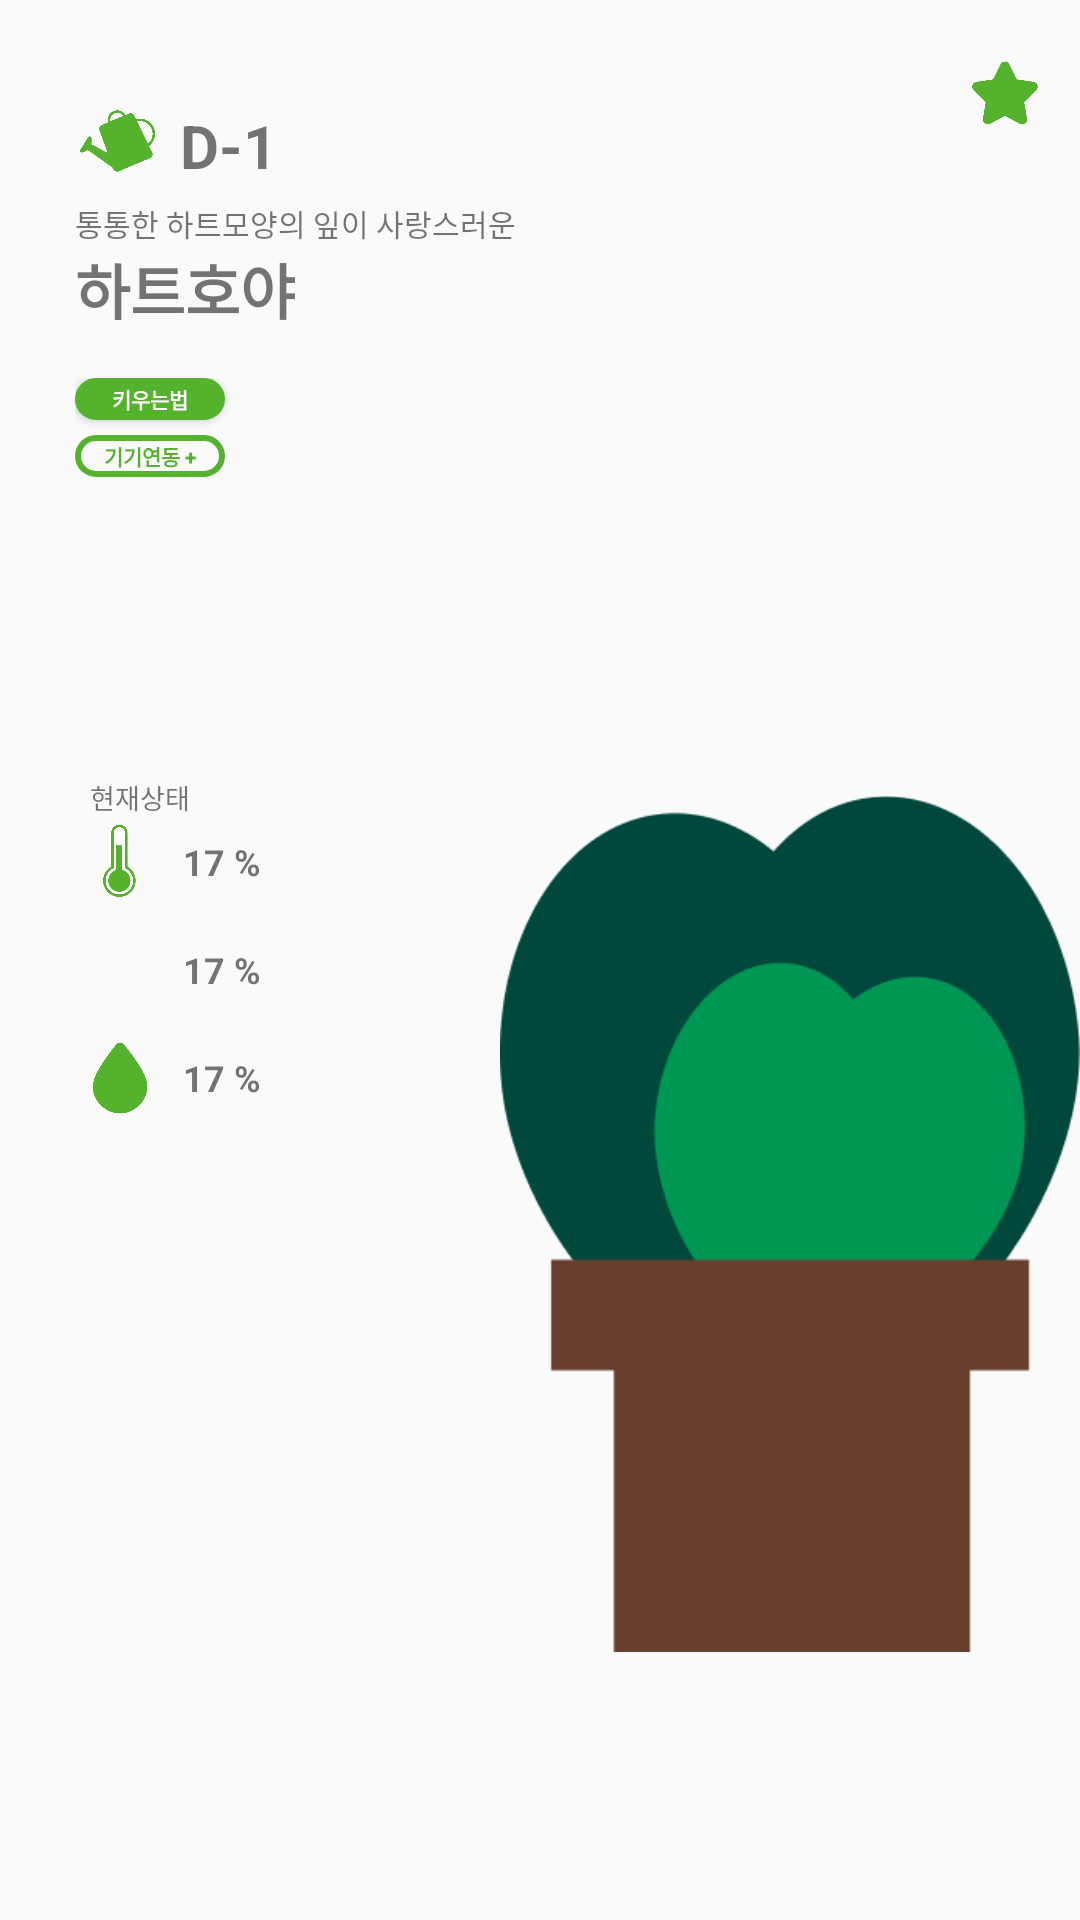

Screen size 1080*1920. Icon name, then its box in pixels as (x1, y1, x2, y2):
full water: (93, 1042, 147, 1114)
star: (972, 61, 1038, 125)
thermometer: (103, 825, 136, 897)
